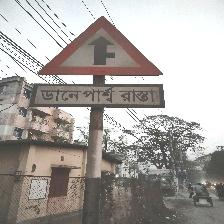Side-road-right: (35, 17, 165, 109)
